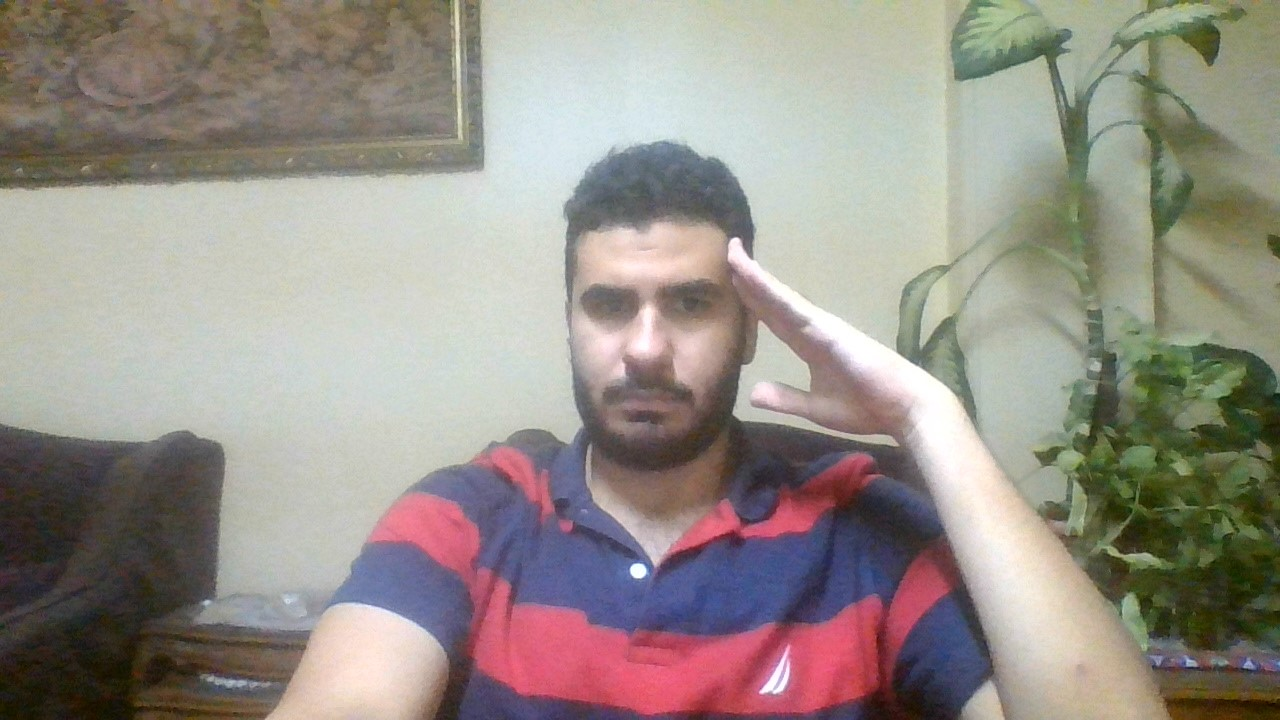hello: (713, 222, 927, 456)
